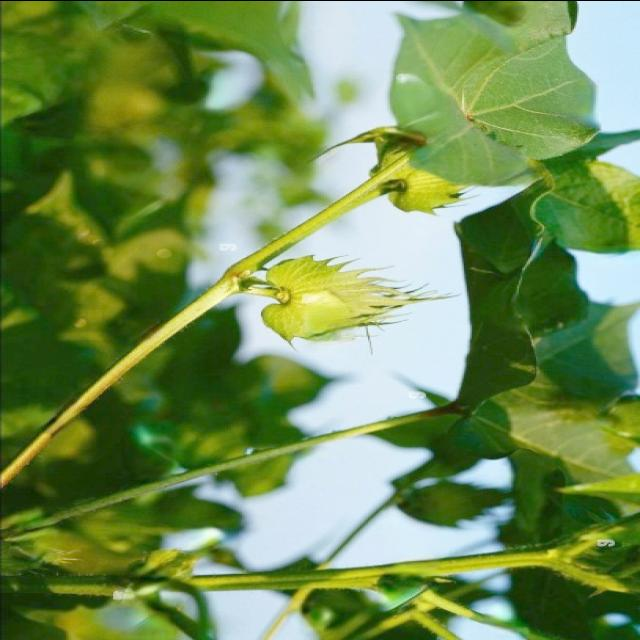Cotton Bud: (241, 245, 430, 343)
